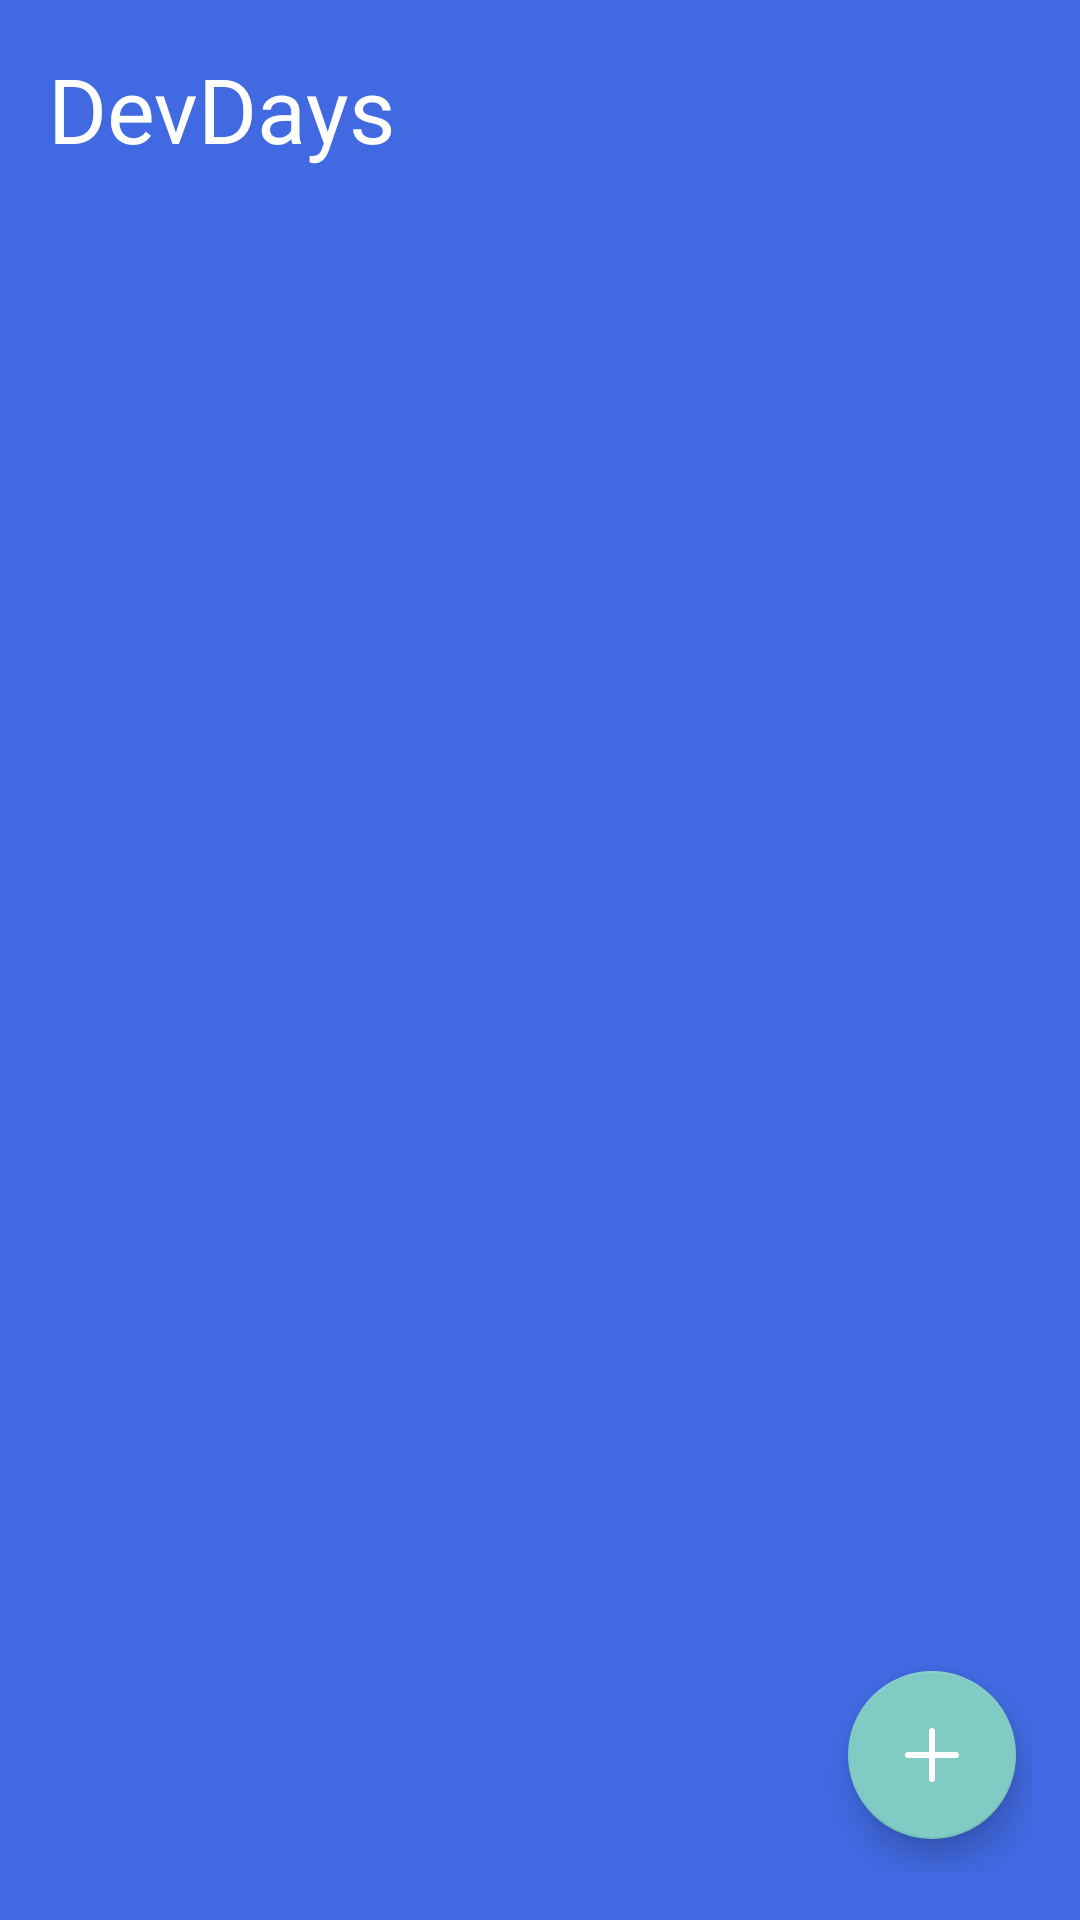

Point at icon controls on the screen. Image size 1080 x 1920, points as (x=x, y=y).
add: (x=932, y=1755)
